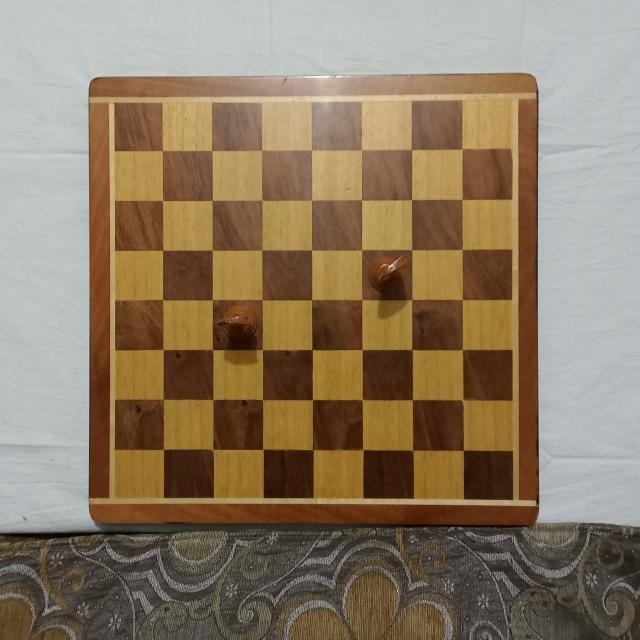white-knight: (368, 252, 411, 294), (217, 302, 259, 342)
